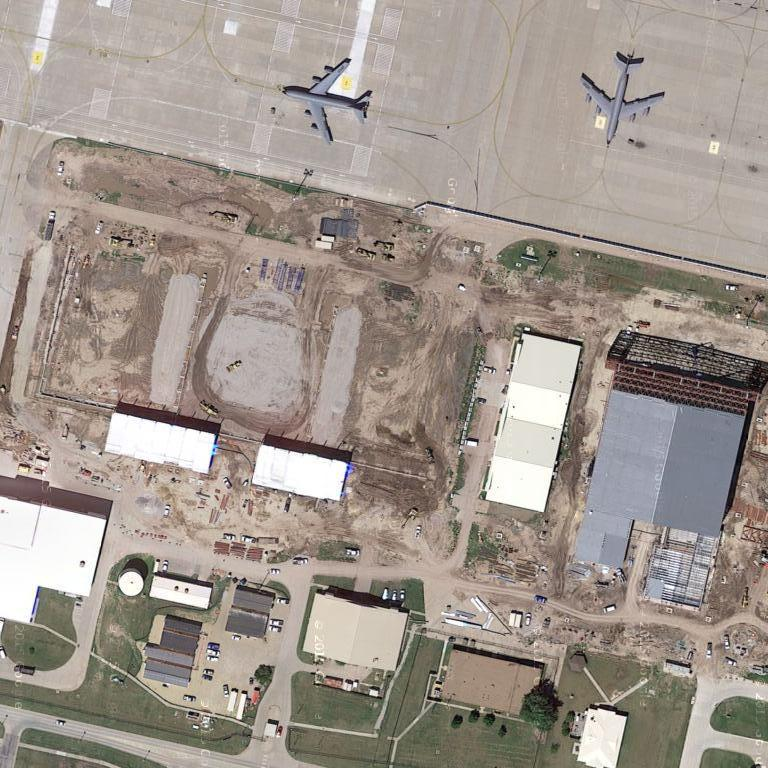KC-135: (279, 53, 375, 146), (577, 50, 671, 143)
